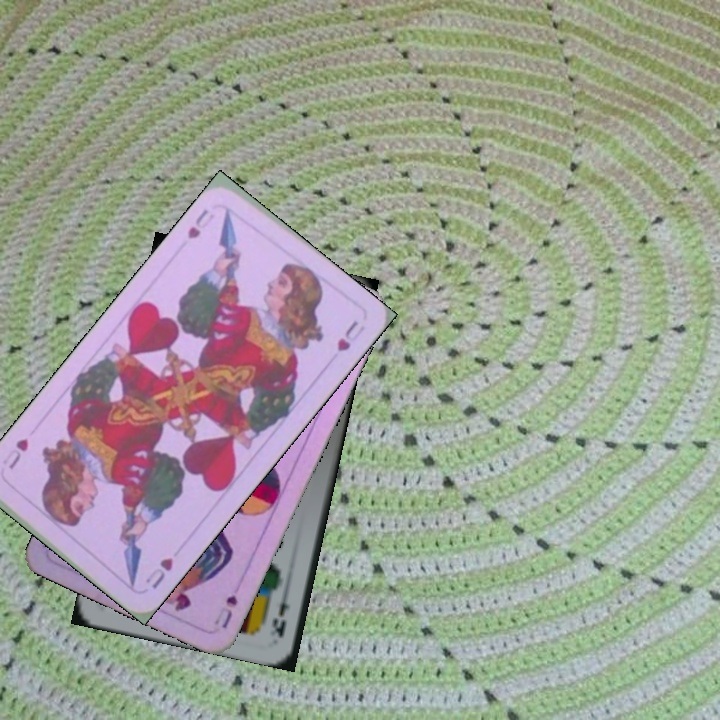EK: (266, 582, 293, 641)
HU: (141, 553, 176, 592), (183, 205, 217, 242)
SU: (210, 591, 241, 631)
